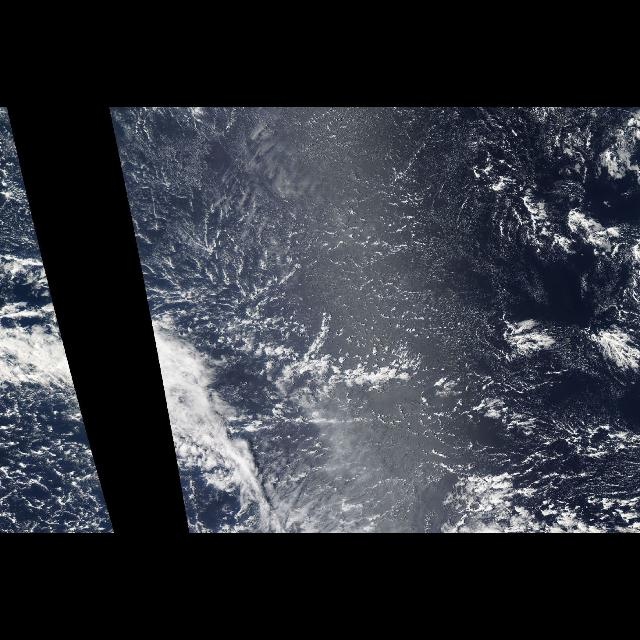Gravel: (466, 390, 640, 532), (2, 356, 112, 532), (445, 299, 627, 387)
Sugar: (118, 108, 640, 398)
